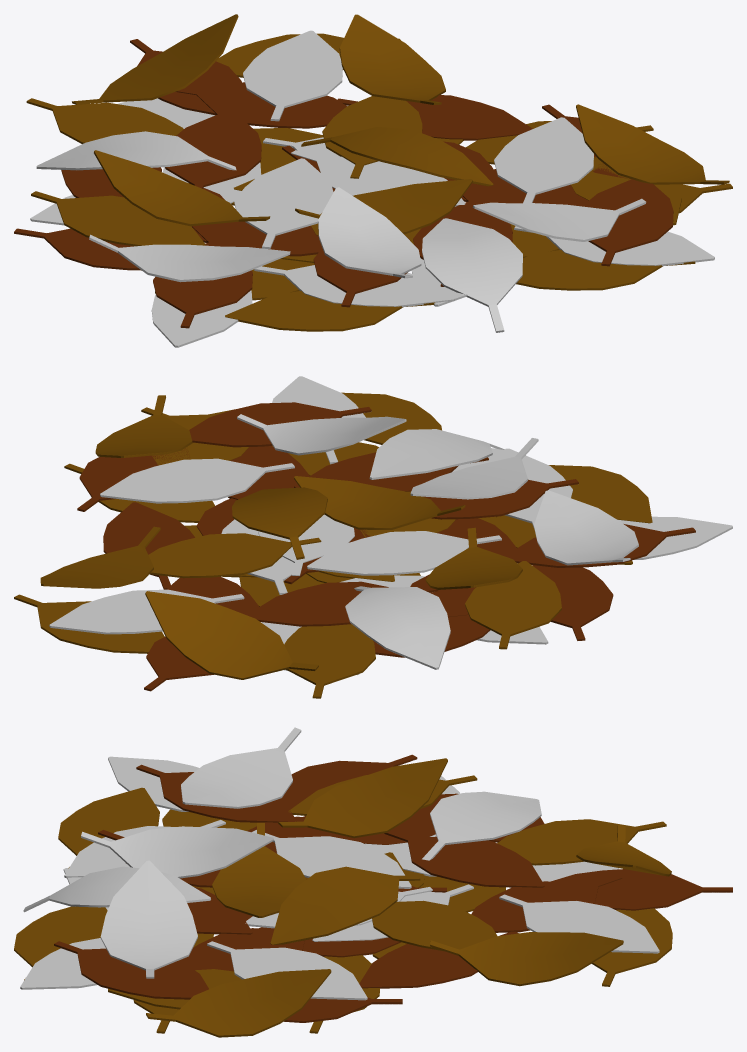
The model's file is leafpile.fbx.
3 views of the same model, one above another, from view 1: azimuth 30°, elevation 25°; view 2: azimuth 150°, elevation 25°; view 3: azimuth 270°, elevation 25° (orthographic). The views are drawn at different scales.
Visible parts, largest first — view 1: pPlane61; view 2: pPlane61; view 3: pPlane61.
Boxes of the visible parts, x1=… form: pPlane61: x1=14, y1=14, x2=732, y2=347; pPlane61: x1=14, y1=376, x2=732, y2=698; pPlane61: x1=14, y1=727, x2=732, y2=1037.
Bounding box in the file's own units: 45.96 × 5.5 × 50.47.
